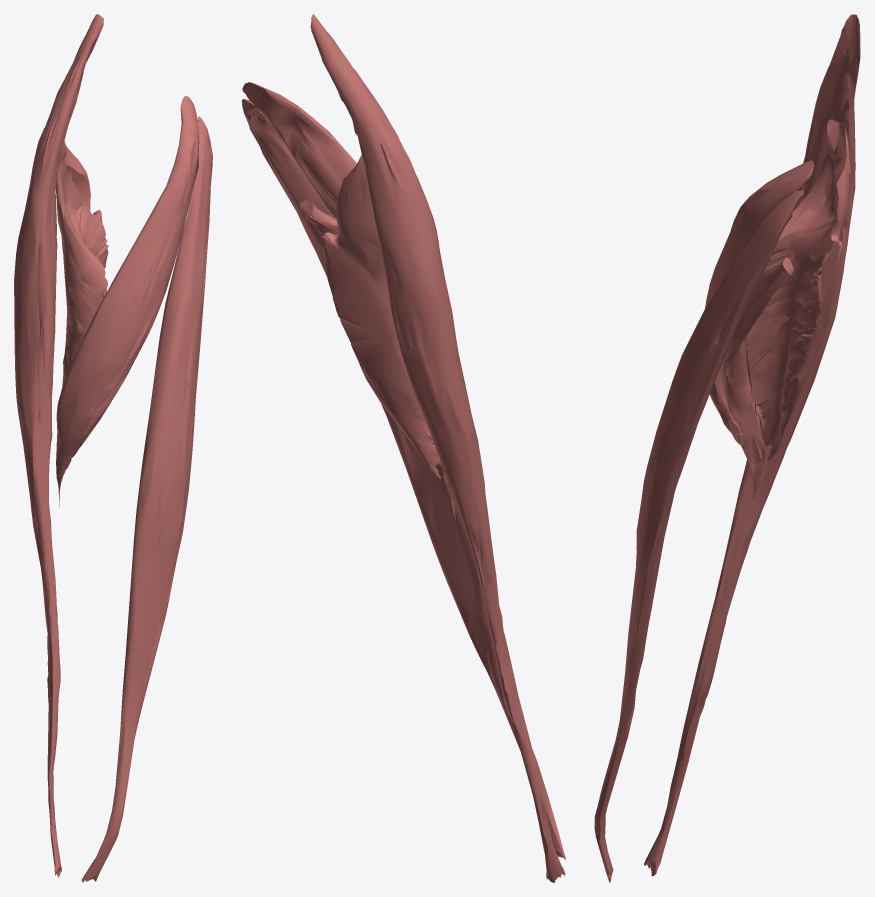
The model's file is muscular-forearm-right.glb.
3 renders of one model, left to right at view 1: azimuth 30°, elevation 25°; view 2: azimuth 150°, elevation 25°; view 3: azimuth 270°, elevation 25°, orthographic. The views are drawn at different scales.
Parts seen in each view (by area): view 1: bp3d_FMA38460_FJ1496, bp3d_FMA38495_FJ1490, bp3d_FMA38560_FJ1474, bp3d_FMA38513_FJ1505; view 2: bp3d_FMA38495_FJ1490, bp3d_FMA38513_FJ1505, bp3d_FMA38460_FJ1496, bp3d_FMA38560_FJ1474, bp3d_FMA38562_FJ1516; view 3: bp3d_FMA38460_FJ1496, bp3d_FMA38513_FJ1505, bp3d_FMA38495_FJ1490, bp3d_FMA38560_FJ1474, bp3d_FMA38562_FJ1516.
Boxes of the visible parts, x1,y1,x2,y2 form: bp3d_FMA38460_FJ1496: [81, 116, 212, 882]; bp3d_FMA38495_FJ1490: [14, 14, 103, 877]; bp3d_FMA38560_FJ1474: [56, 96, 199, 506]; bp3d_FMA38513_FJ1505: [56, 141, 108, 386]; bp3d_FMA38495_FJ1490: [310, 14, 565, 882]; bp3d_FMA38513_FJ1505: [321, 154, 441, 479]; bp3d_FMA38460_FJ1496: [241, 99, 565, 859]; bp3d_FMA38560_FJ1474: [242, 82, 455, 520]; bp3d_FMA38562_FJ1516: [299, 200, 338, 234]; bp3d_FMA38460_FJ1496: [594, 190, 803, 882]; bp3d_FMA38513_FJ1505: [745, 119, 850, 460]; bp3d_FMA38495_FJ1490: [644, 14, 860, 876]; bp3d_FMA38560_FJ1474: [705, 160, 814, 501]; bp3d_FMA38562_FJ1516: [719, 257, 793, 465].
Size of the model in its own units: 0.0935 by 0.3225 by 0.0832.
